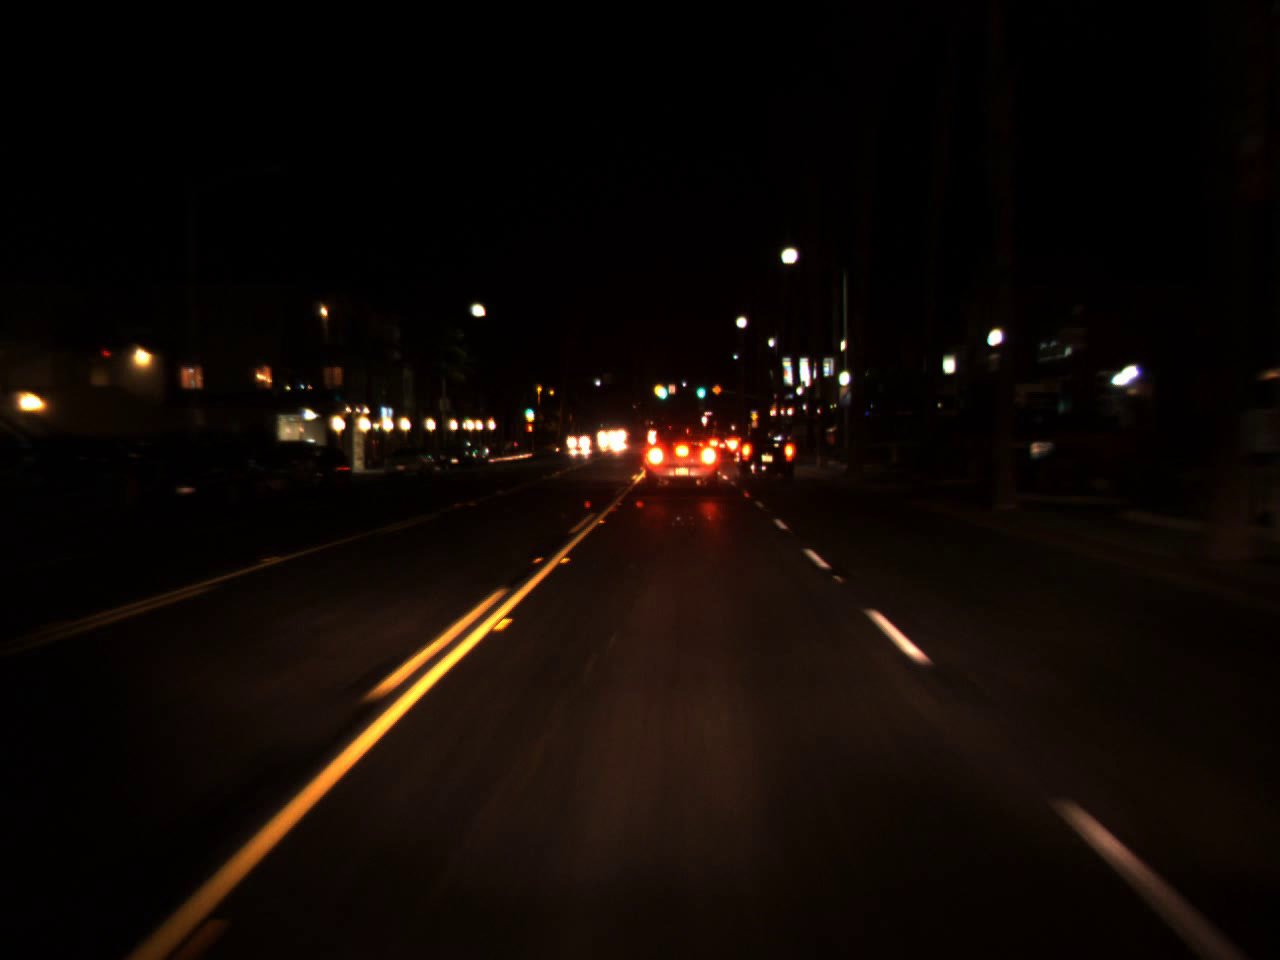go: (654, 373, 666, 403), (694, 377, 706, 401), (524, 404, 534, 416)
